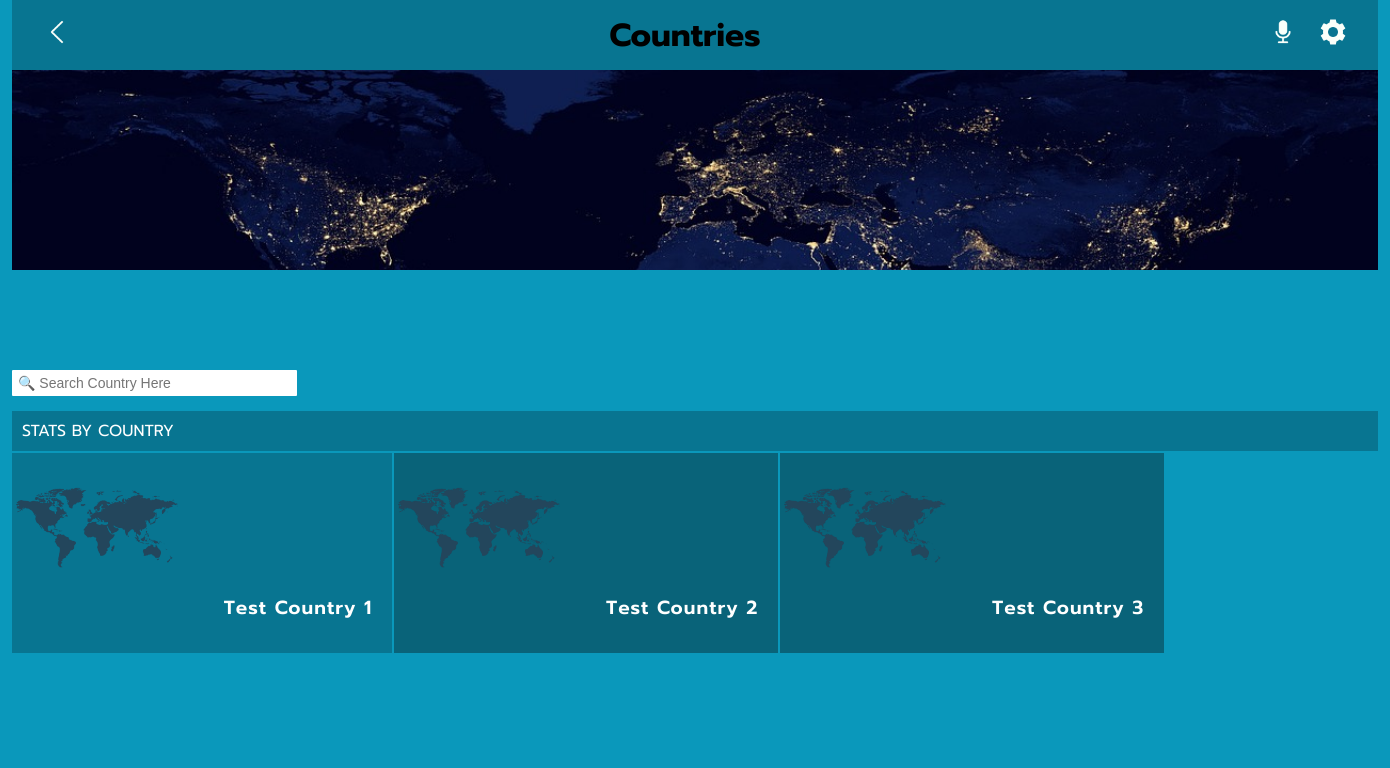
Test: <Homepage /> › Should filters countries based on search
The image size is (1390, 768).
Type "test country 2" into the field with placeholder "🔍 Search Country Here" at (155,383), box [12,370,297,396]
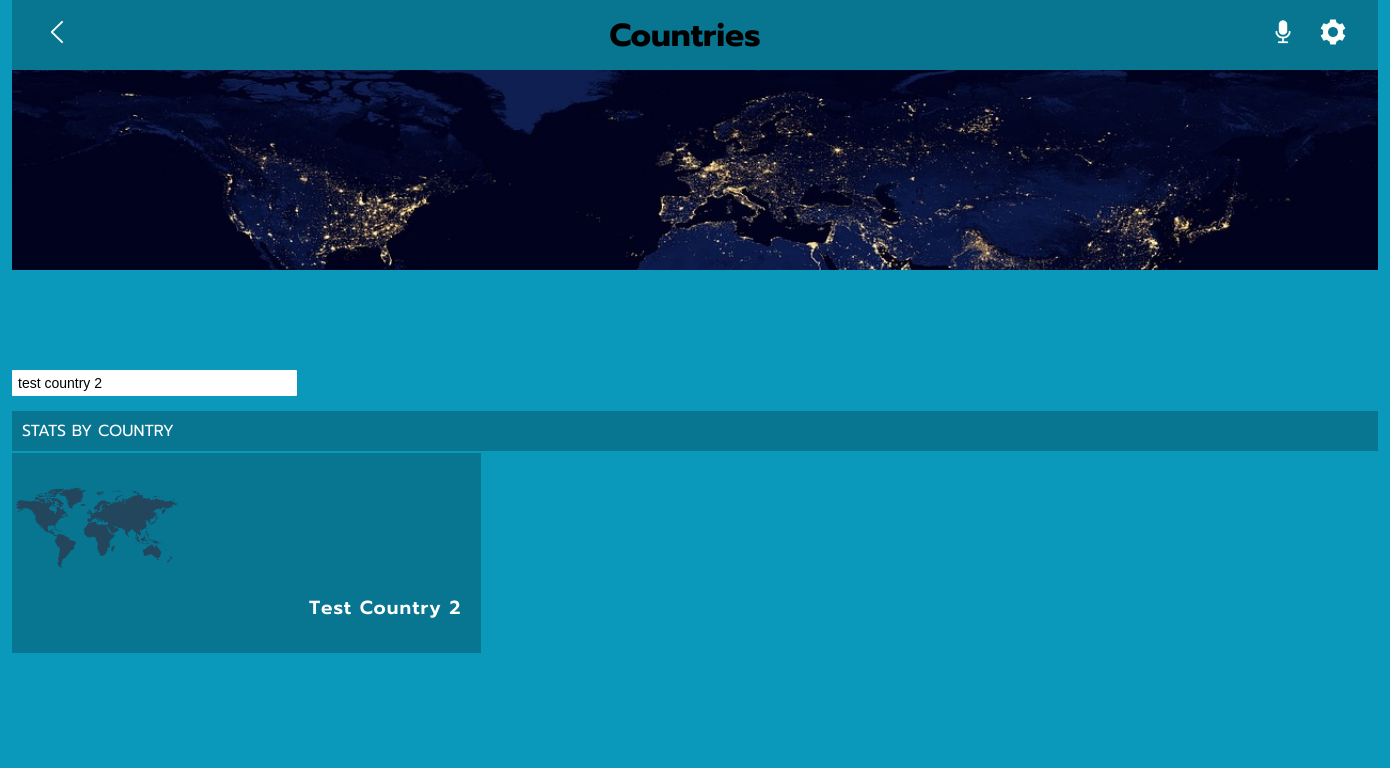
Now the number of links "Test Country 2" is 1, box [12,453,481,653]
